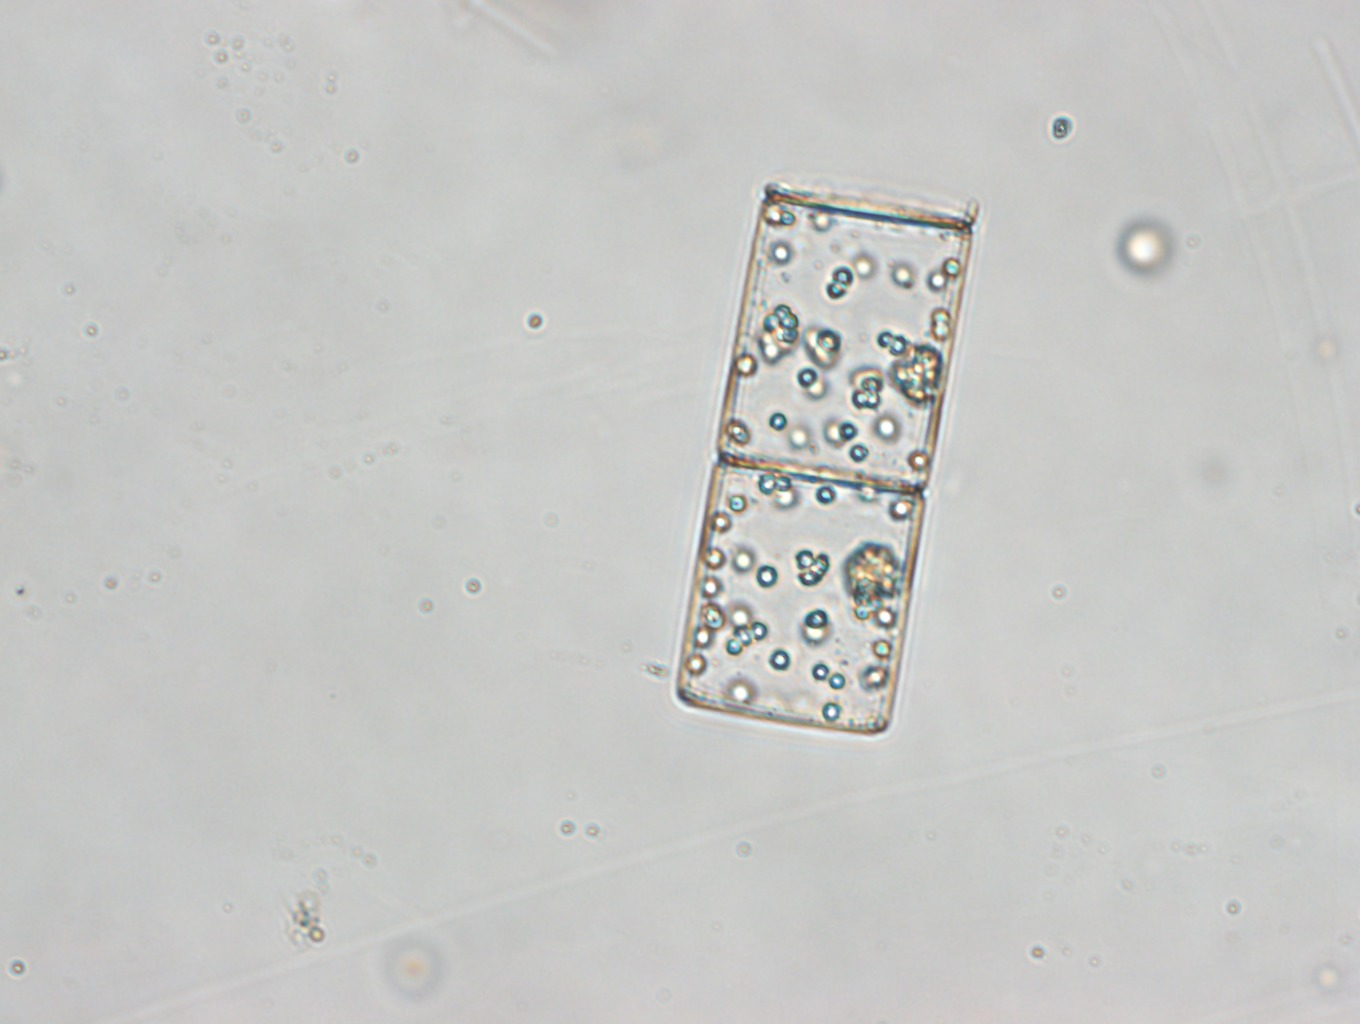guinardia flaccida: (671, 173, 985, 737)
